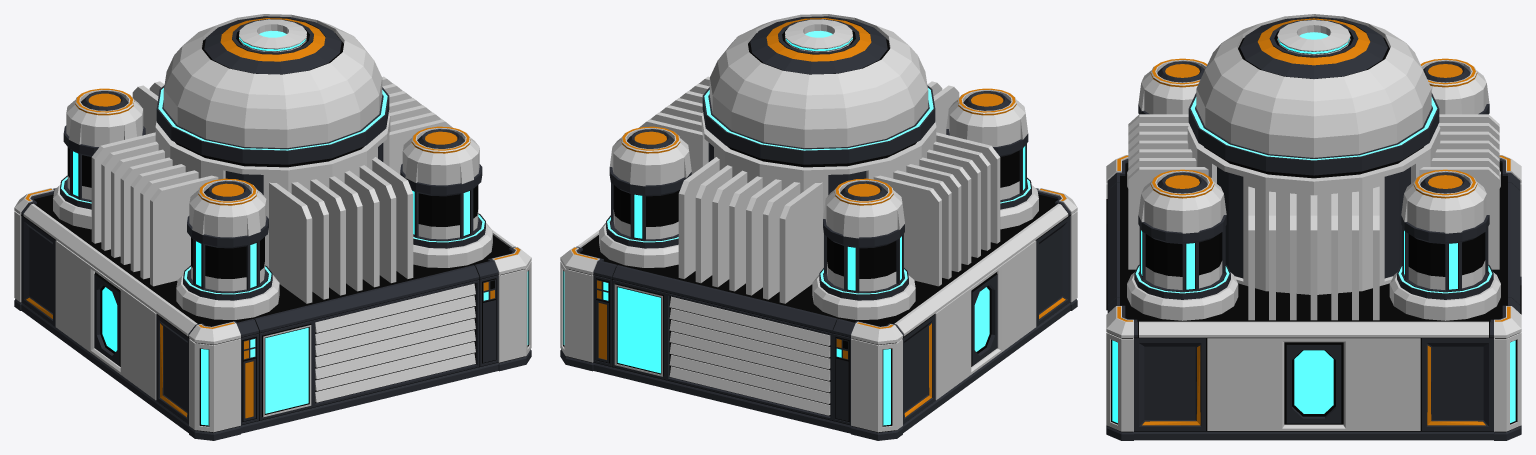
Rendered from SM_Nuclear_T3.fbx.
3 renders of one model, left to right at view 1: azimuth 30°, elevation 25°; view 2: azimuth 150°, elevation 25°; view 3: azimuth 270°, elevation 25°, orthographic. The views are drawn at different scales.
Parts seen in each view (by area): view 1: SM_Nuclear_T3; view 2: SM_Nuclear_T3; view 3: SM_Nuclear_T3.
Boxes of the visible parts, bbox=[...] form: SM_Nuclear_T3: bbox=[14, 14, 531, 440]; SM_Nuclear_T3: bbox=[560, 14, 1077, 440]; SM_Nuclear_T3: bbox=[1106, 14, 1521, 440].
Bounding box in the file's own units: 300 × 256 × 300.
